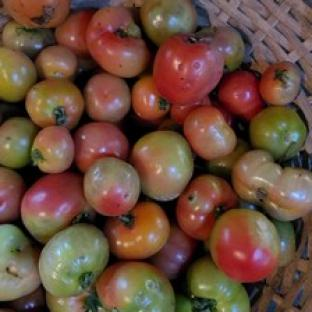Tomato: (232, 150, 311, 221), (38, 223, 110, 296), (21, 172, 94, 243), (209, 208, 279, 282), (154, 34, 224, 104), (85, 6, 150, 77), (130, 130, 193, 200), (176, 175, 238, 239), (97, 261, 175, 311), (104, 201, 169, 260), (186, 255, 250, 311), (84, 156, 140, 215), (0, 223, 40, 300), (250, 106, 307, 160), (26, 78, 84, 129), (148, 222, 199, 279), (183, 106, 236, 160), (74, 122, 130, 172), (83, 72, 130, 122), (218, 70, 263, 121), (198, 24, 245, 72), (0, 46, 37, 103), (0, 116, 40, 168), (2, 20, 55, 59), (31, 126, 75, 172), (205, 137, 250, 181), (55, 9, 94, 58), (131, 74, 171, 121), (260, 62, 302, 105), (35, 45, 77, 80), (0, 166, 26, 222), (45, 289, 105, 311), (170, 97, 211, 126), (271, 219, 296, 266), (5, 285, 45, 311)
